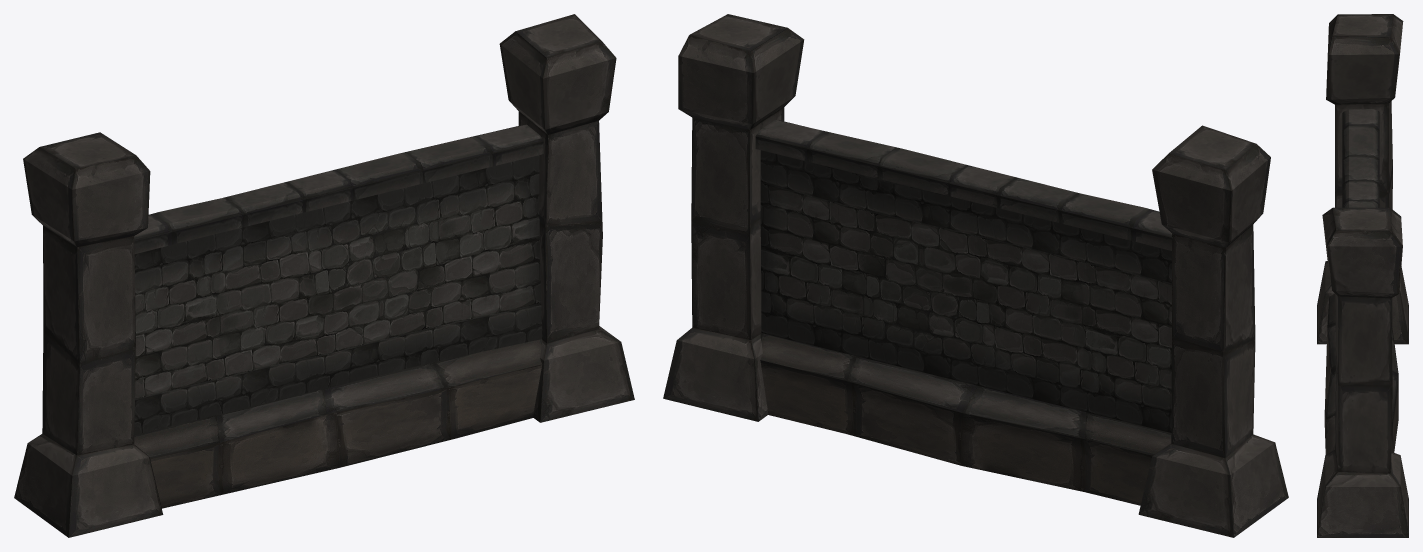
File: wall1.FBX
3 renders of one model, left to right at view 1: azimuth 30°, elevation 25°; view 2: azimuth 150°, elevation 25°; view 3: azimuth 270°, elevation 25°, orthographic. The views are drawn at different scales.
Parts seen in each view (by area): view 1: wall1; view 2: wall1; view 3: wall1.
Boxes of the visible parts, bbox=[...] form: wall1: bbox=[14, 14, 634, 537]; wall1: bbox=[663, 14, 1288, 537]; wall1: bbox=[1317, 14, 1408, 537].
Size of the model in its own units: 299 by 181 by 50.
